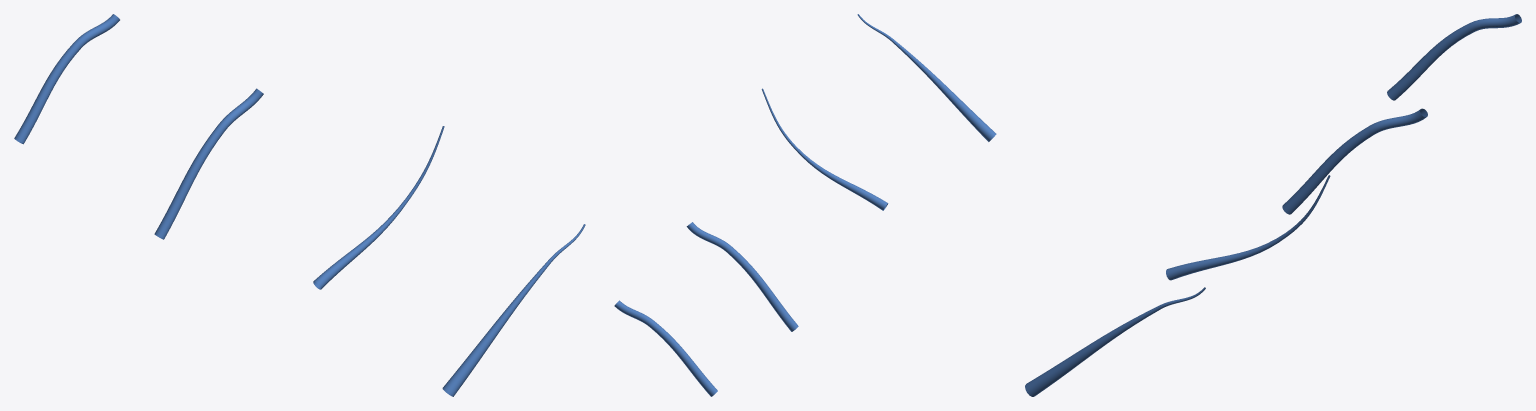
3 renders of one model, left to right at view 1: azimuth 30°, elevation 25°; view 2: azimuth 150°, elevation 25°; view 3: azimuth 330°, elevation 25°, orthographic. The views are drawn at different scales.
Visible parts, largest first — view 1: 左侧穿静脉; view 2: 左侧穿静脉; view 3: 左侧穿静脉.
Part boxes in pixels (box(x1,y1,x2,y2)): 左侧穿静脉: box(14, 14, 585, 396); 左侧穿静脉: box(614, 14, 996, 396); 左侧穿静脉: box(1025, 14, 1521, 396).
Bounding box in the file's own units: 0.0723 × 0.0566 × 0.2486.
